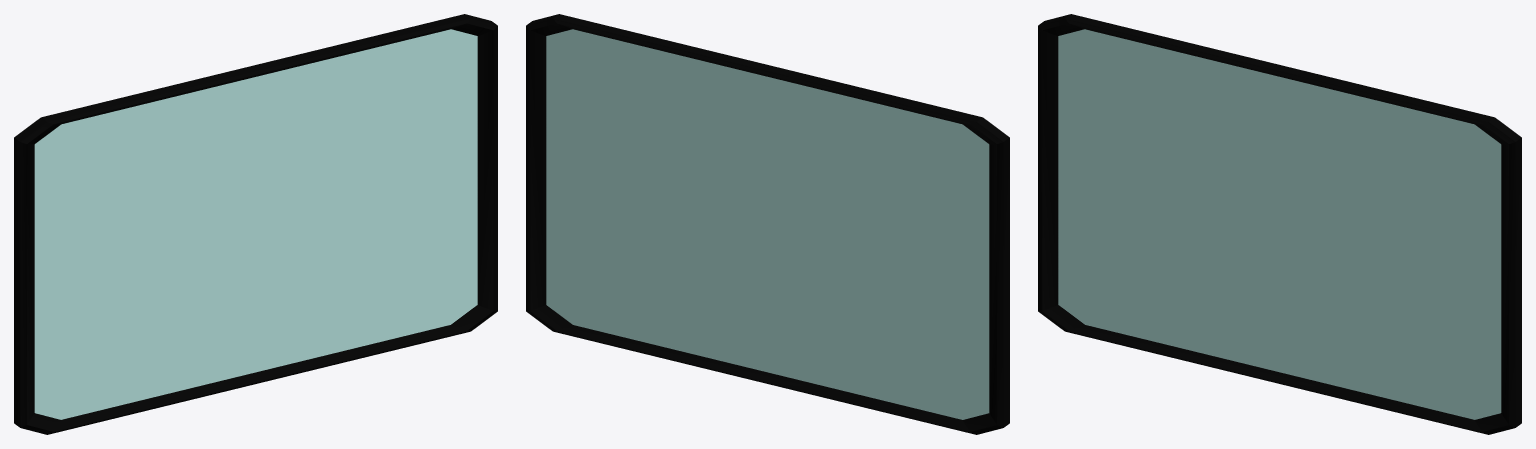
The model's file is SM_ScreenRectagular_Long.fbx.
3 views of the same model, side by side, from view 1: azimuth 30°, elevation 25°; view 2: azimuth 150°, elevation 25°; view 3: azimuth 330°, elevation 25° (orthographic).
Visible parts, largest first — view 1: Screen.001; view 2: Screen.001; view 3: Screen.001.
Part boxes in pixels (x1,y1,x2,y2): Screen.001: [14, 14, 497, 434]; Screen.001: [526, 14, 1009, 434]; Screen.001: [1038, 14, 1521, 434].
Bounding box in the file's own units: 2816 × 1764 × 89.29.
